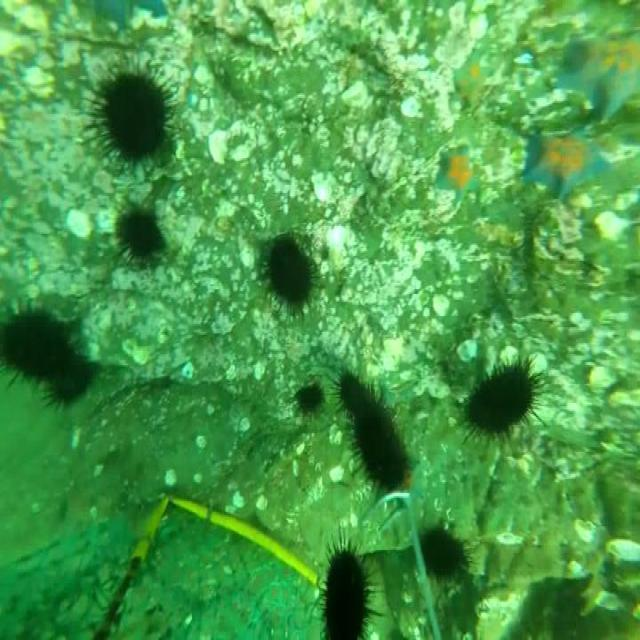echinus: (332, 366, 408, 492), (2, 305, 90, 405), (85, 65, 174, 163), (461, 354, 546, 441), (316, 535, 375, 640), (266, 229, 325, 313), (420, 528, 472, 586), (114, 207, 164, 258), (292, 386, 324, 412)
scallop: (605, 536, 640, 564), (596, 215, 630, 240), (313, 170, 339, 200), (342, 84, 371, 110), (68, 208, 90, 242), (214, 121, 227, 168), (573, 517, 599, 540), (595, 592, 622, 612), (457, 341, 480, 359), (400, 98, 420, 117), (434, 298, 452, 318), (499, 534, 525, 545), (254, 360, 266, 380), (163, 468, 177, 485), (234, 493, 246, 509), (258, 493, 268, 510), (183, 365, 195, 379), (240, 419, 250, 430)
starfish: (555, 25, 640, 126), (521, 118, 609, 205), (438, 141, 478, 202), (454, 52, 492, 109)
